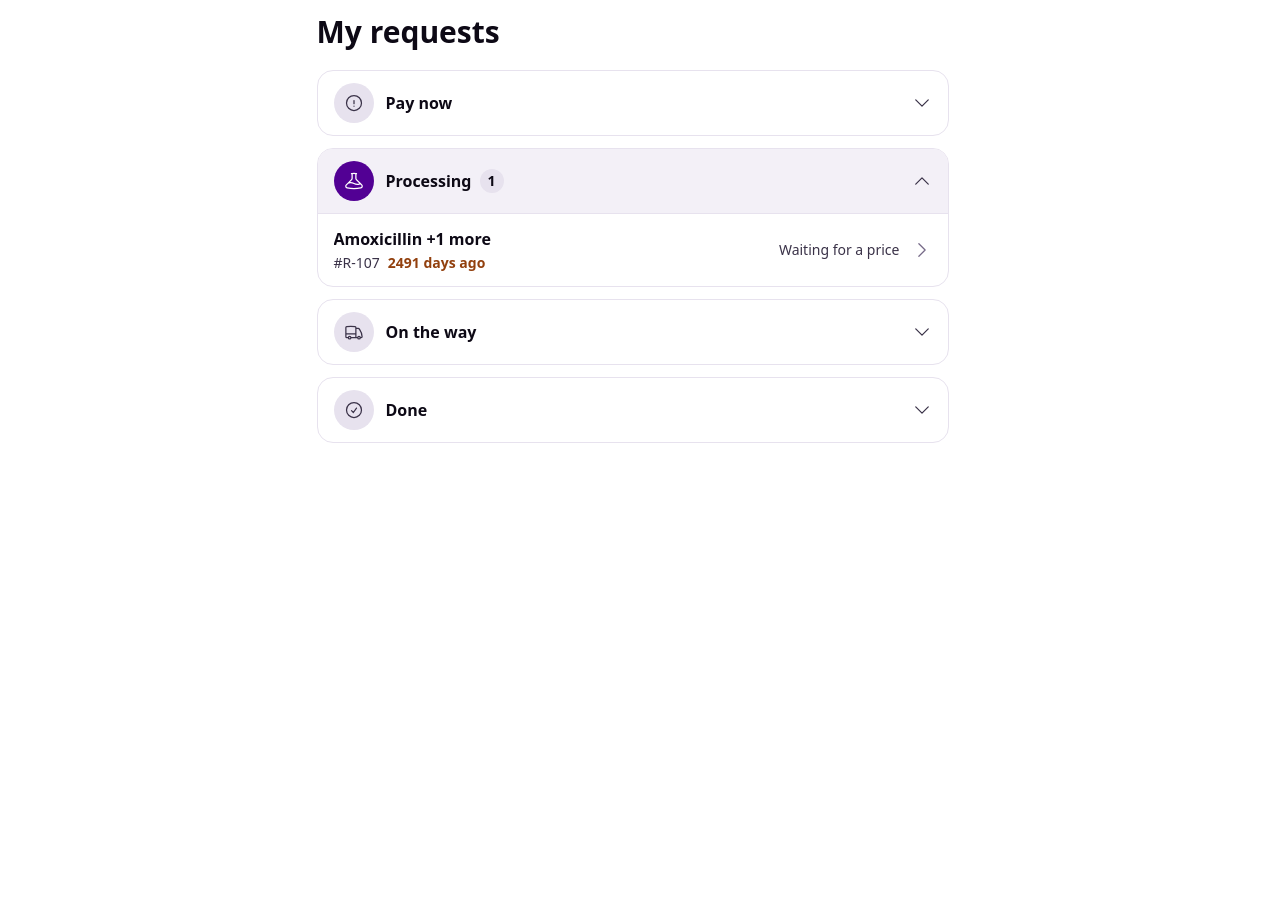
Request detail: delivery progress › shows the steps as a list and marks the current one
Click the button "Amoxicillin +1 more #R-107 2491 days ago Waiting for a price" at {"x": 412, "y": 239}, box [322,218,944,282]
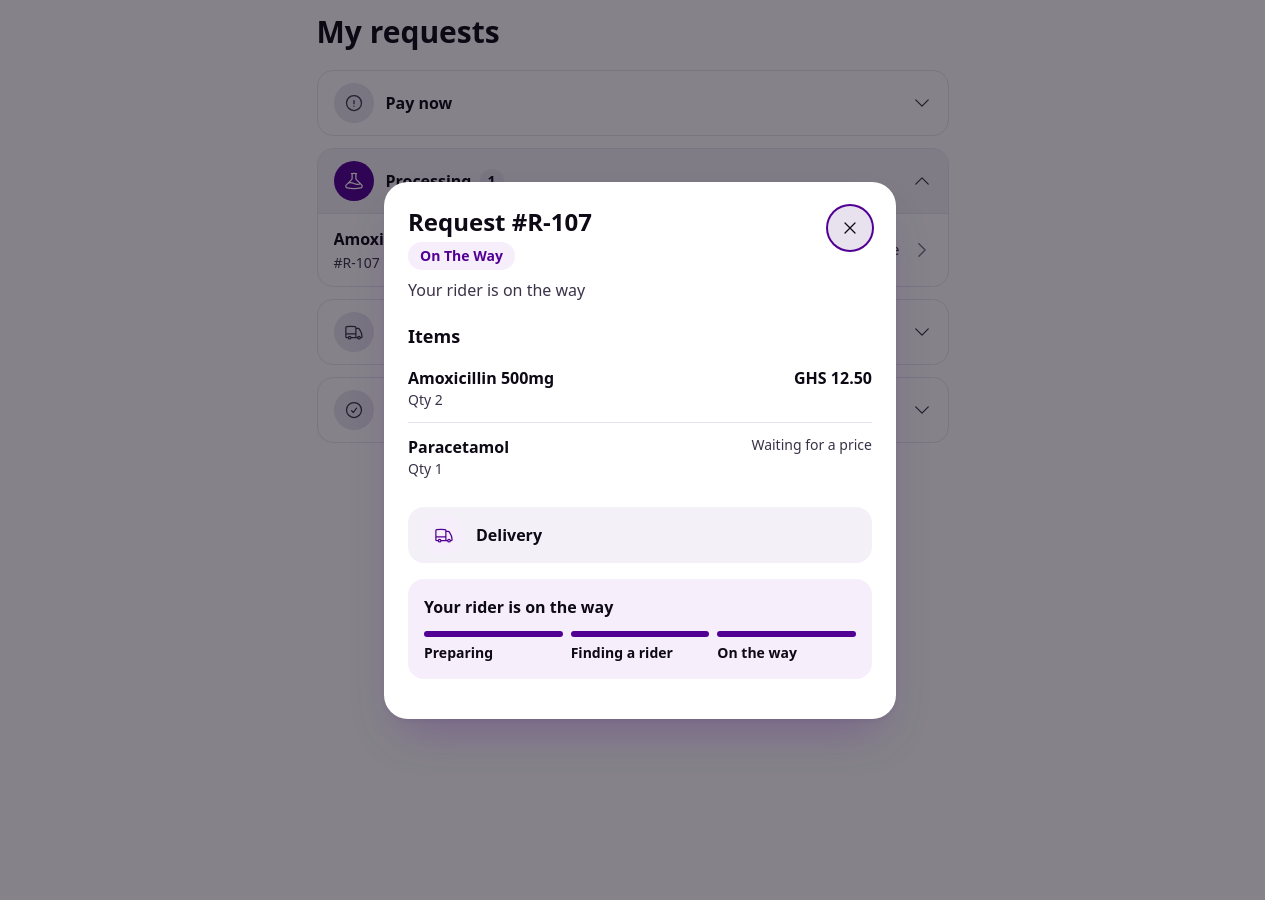
Now the list item "On the way" is shown, box [717,630,856,662]
